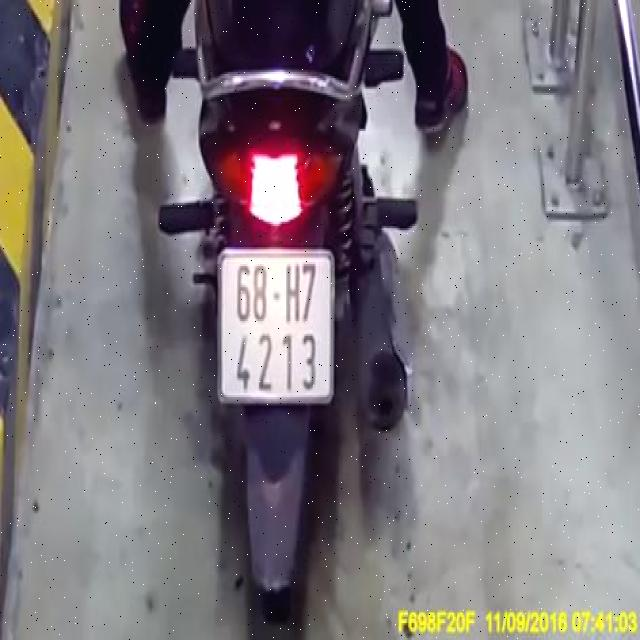1: (280, 330, 296, 395)
2: (255, 328, 275, 393)
3: (299, 329, 320, 394)
4: (230, 330, 252, 394)
6: (234, 260, 252, 325)
7: (298, 260, 318, 328)
8: (250, 260, 272, 326)
H: (280, 260, 303, 328)
